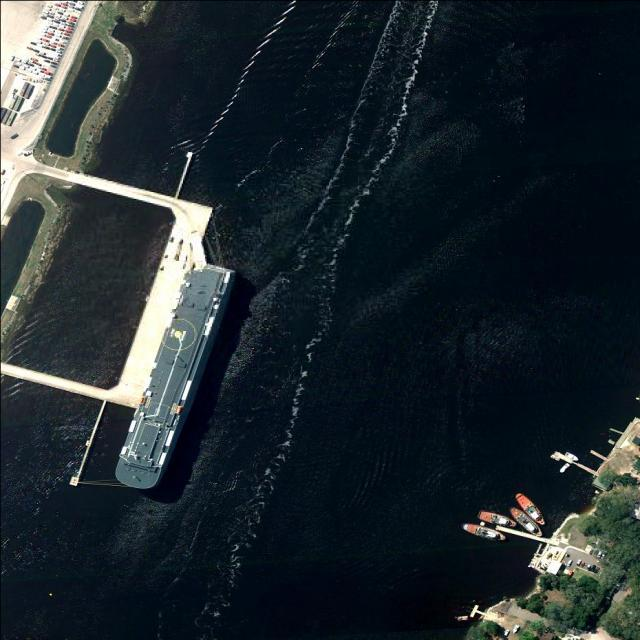Dock: (110, 197, 216, 416)
RoRo: (107, 253, 235, 498)
